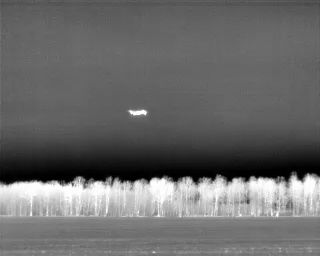DRONE: (124, 104, 151, 121)
